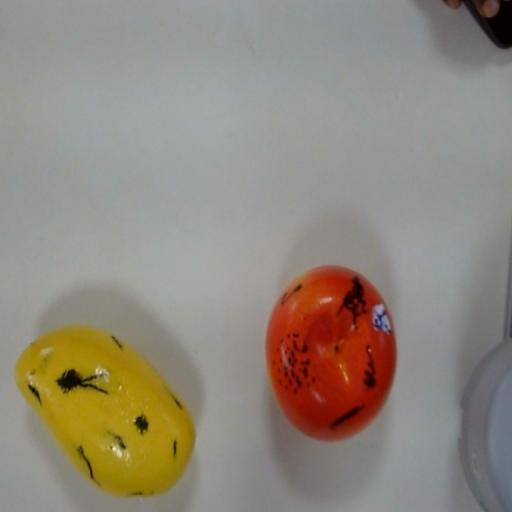Defective: (12, 322, 208, 502), (256, 260, 406, 452)
